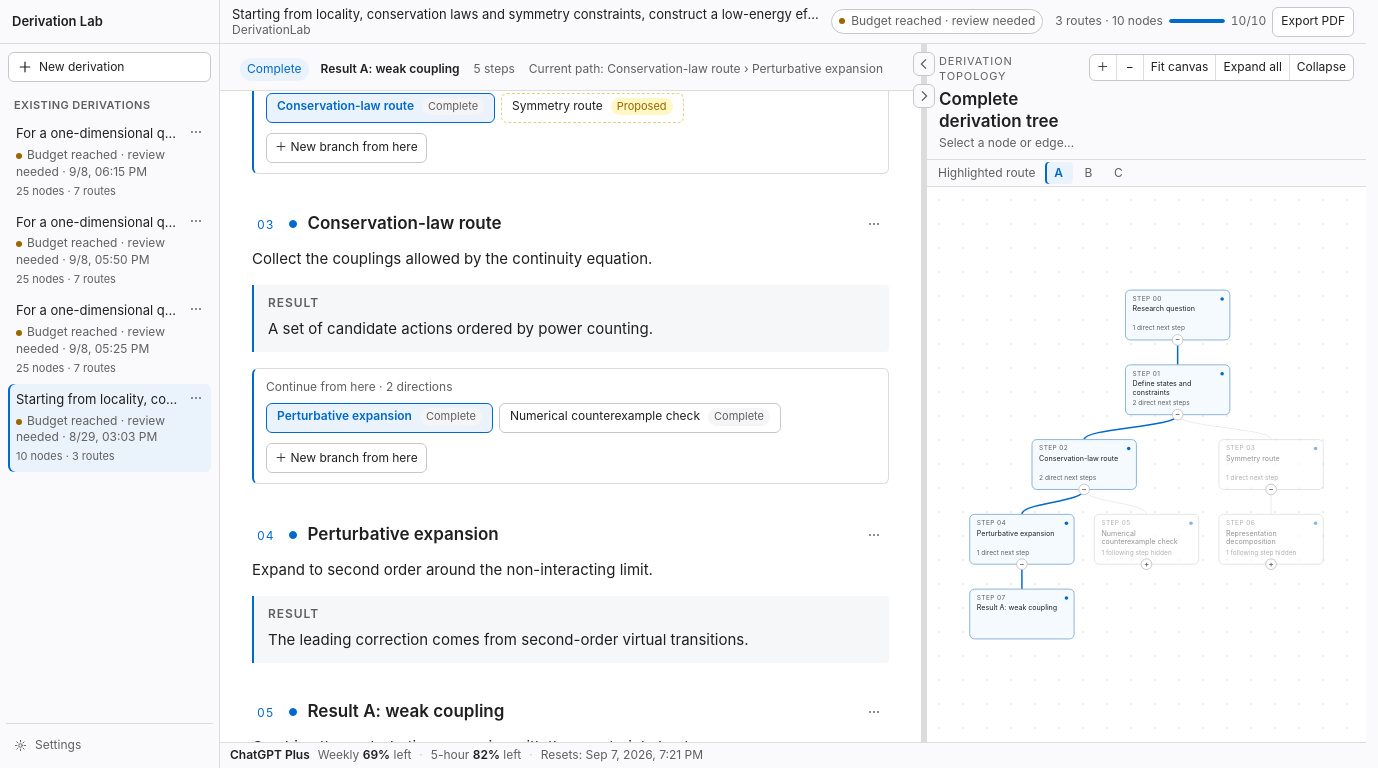
Test case: tree-first derivation UI › switches route from the fork in the prose without rebuilding the shared prefix
The image size is (1378, 768).
(page scrolled)
Expected: the heading "Complete derivation tree" is shown, [939, 88, 1077, 132]
Expected: the element with id "reader-step-perturbation" is shown, [240, 511, 901, 688]
Click the radio button labelled "Numerical counterexample check Complete": x=640, y=419 [499, 404, 781, 434]
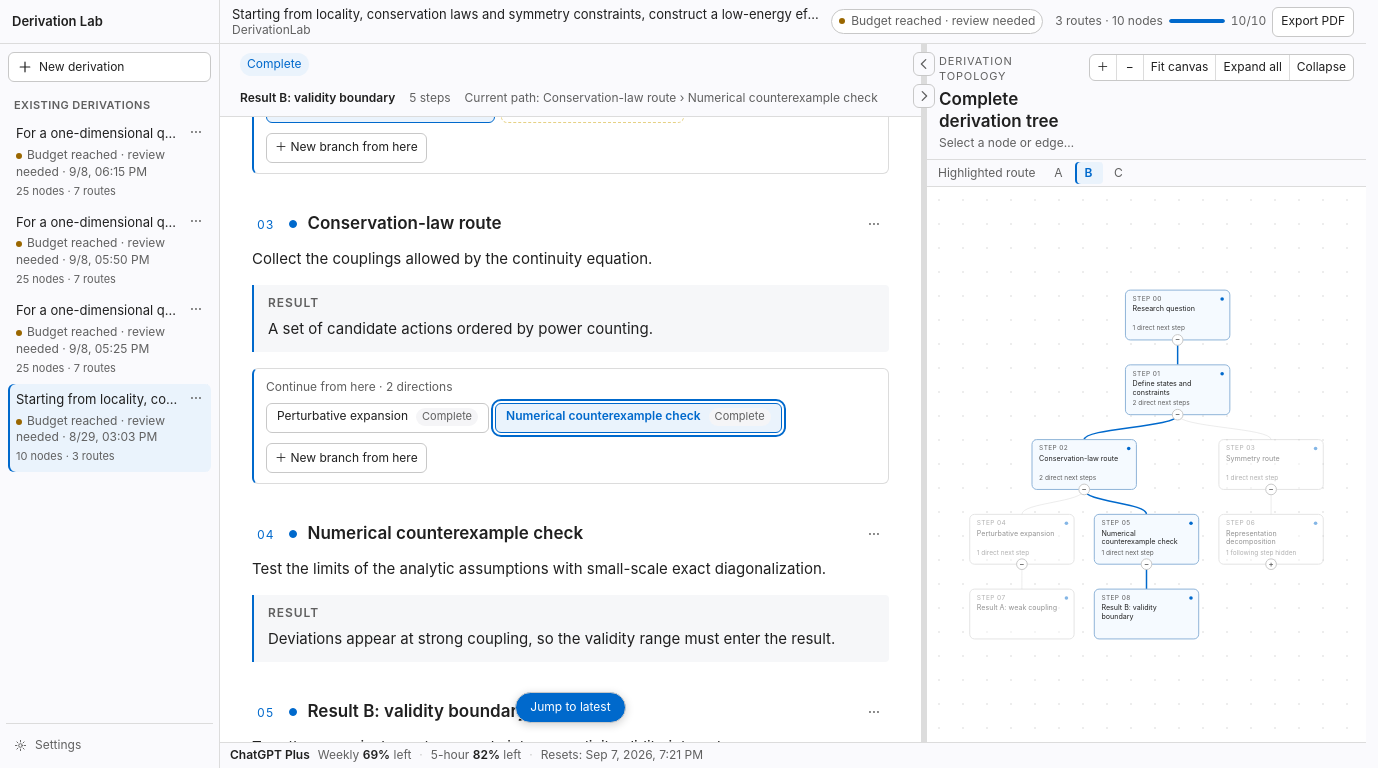
Expected: the button "Export PDF" is enabled, [1272, 6, 1354, 36]
Expected: the text with class "reader-route-label" reads "Result B: validity boundary", [240, 90, 395, 105]
Expected: the element with id "reader-step-perturbation" is gone
